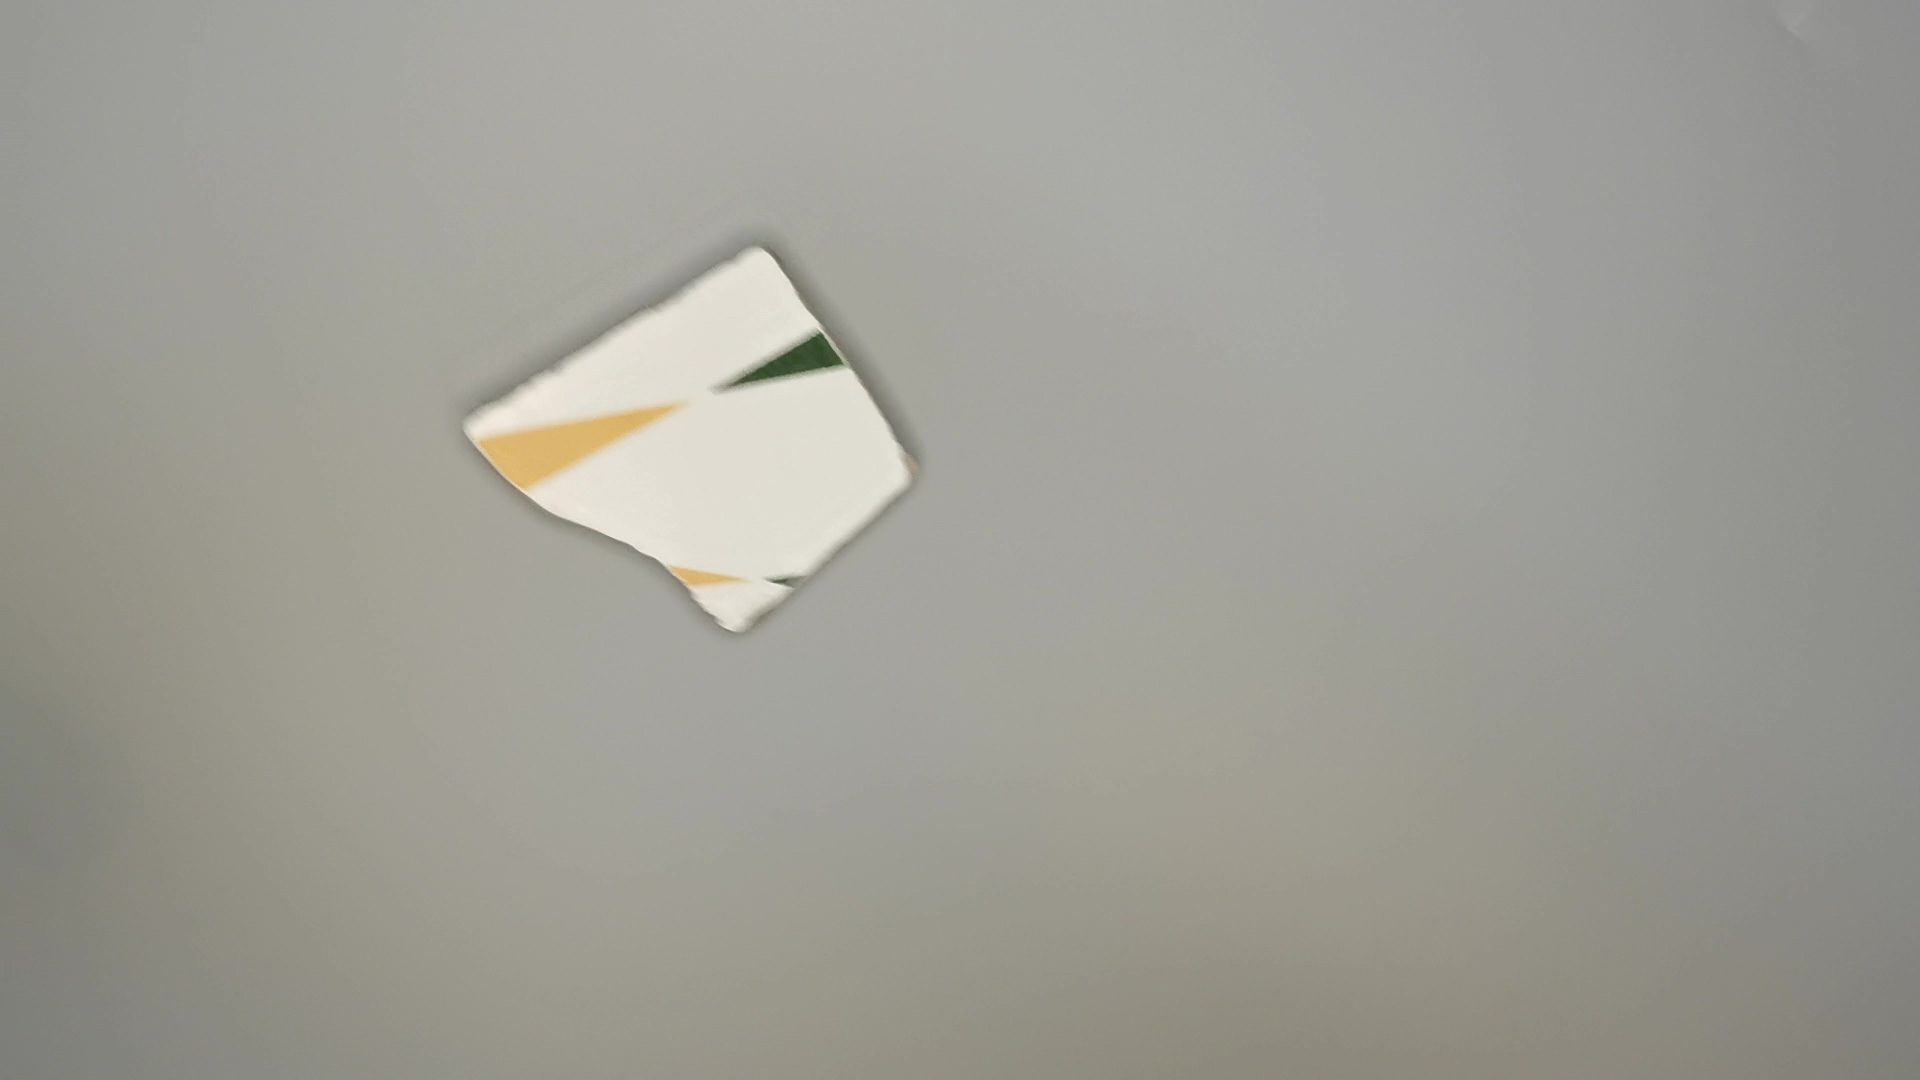ceramic: (448, 243, 923, 640)
